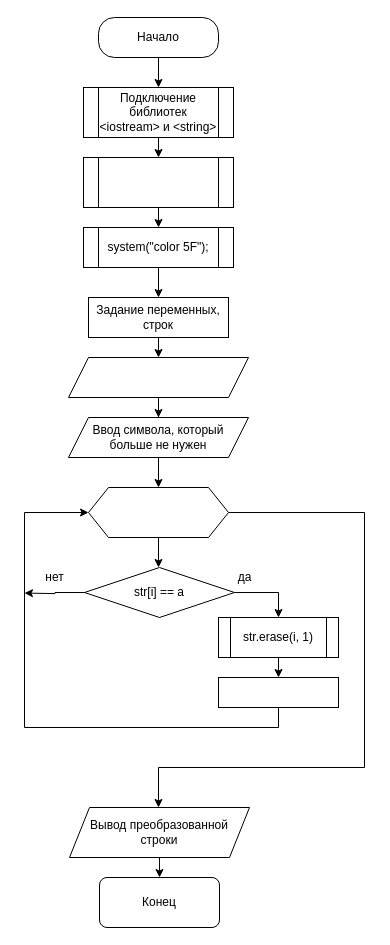
This 390x945 diagram has some shape labels left out. Here are the shapes that lost their labels. From the top down, the centre of each, then its label:
point 158,182: setlocale(LC_CTYPE, "Russian")
point 158,377: Ввод строки
point 158,512: i < str.length(); i++
point 278,692: i--
